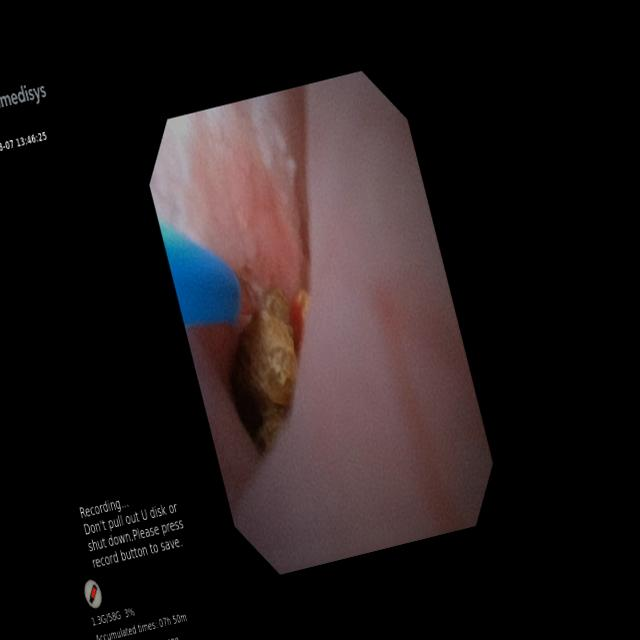laser-fibre: (238, 276, 261, 315)
stone-new: (231, 288, 297, 448)
